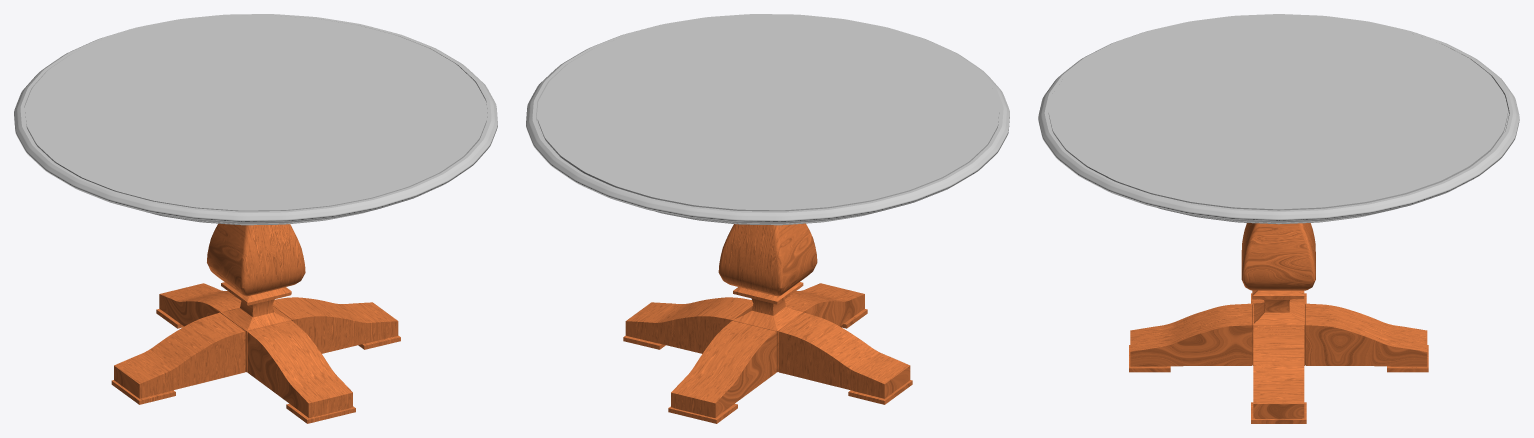
Rendered from DiningTable.fbx.
3 views of the same model, side by side, from view 1: azimuth 30°, elevation 25°; view 2: azimuth 150°, elevation 25°; view 3: azimuth 270°, elevation 25° (orthographic).
Visible parts, largest first — view 1: Cylinder, Cube.001; view 2: Cylinder, Cube.001; view 3: Cylinder, Cube.001.
Boxes of the visible parts, x1,y1,x2,y2 form: Cylinder: (14, 14, 497, 225); Cube.001: (111, 223, 400, 423); Cylinder: (526, 14, 1009, 225); Cube.001: (623, 223, 912, 423); Cylinder: (1038, 14, 1519, 224); Cube.001: (1129, 223, 1428, 423).
Size of the model in its own units: 226 by 129 by 226.
